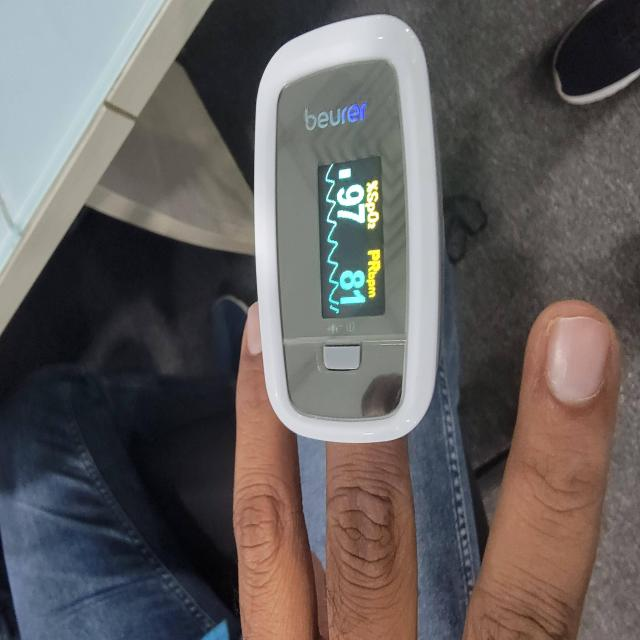spo2: (258, 60, 438, 444)
